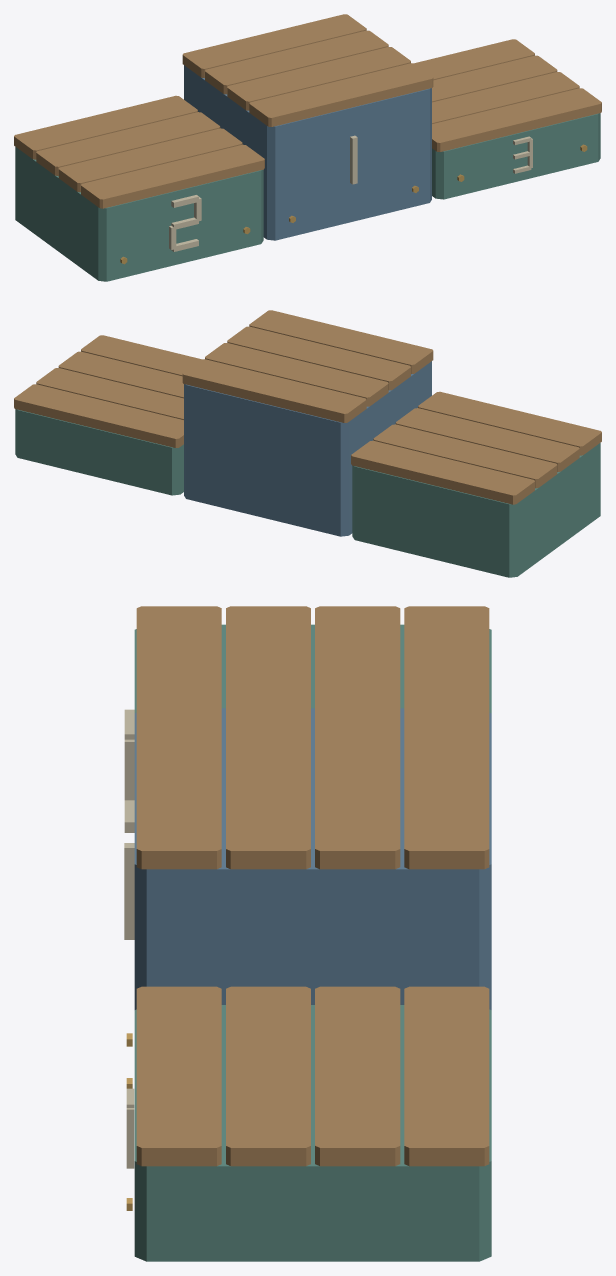
The model's file is fishfest_podium.glb.
The picture shows the model from 3 angles, top to bottom: view 1: azimuth 30°, elevation 25°; view 2: azimuth 150°, elevation 25°; view 3: azimuth 270°, elevation 25°; orthographic projection. The views are drawn at different scales.
Visible parts, largest first — view 1: geometry; view 2: geometry; view 3: geometry.
Part boxes in pixels (x1,y1,x2,y2): geometry: (14, 14, 601, 281); geometry: (14, 310, 601, 577); geometry: (124, 606, 491, 1261).
Bounding box in the file's own units: 2.86 × 0.67 × 0.905.
